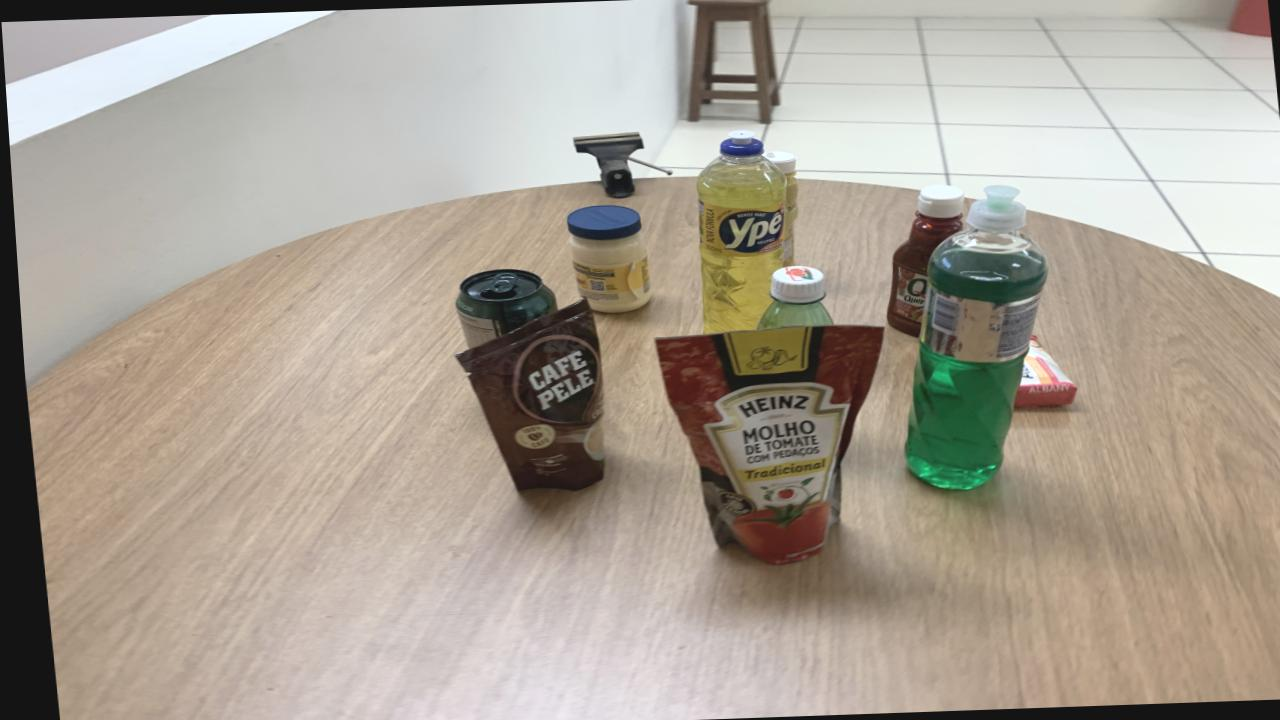Coffee-Pantry_Items: (451, 301, 598, 490)
Detergent-Cleanup_Items: (899, 185, 1044, 489), (693, 131, 785, 334)
Guarana-Drinks: (753, 265, 828, 330)
Guarana_Can-Drinks: (451, 269, 552, 348)
Ketchup-Pantry_Items: (882, 185, 962, 336)
Mayonnaise-Pantry_Items: (564, 205, 646, 313)
Mustard-Pantry_Items: (761, 151, 797, 265)
Soap-Cleanup_Items: (1008, 336, 1072, 408)
Tomato_Sauce-Pantry_Items: (652, 325, 879, 565)
